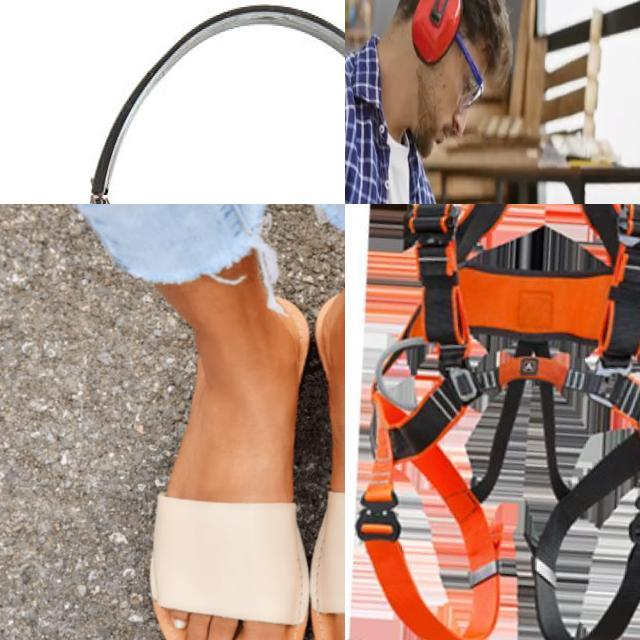Ear-protection: (78, 0, 345, 204), (407, 0, 464, 74)
Harness: (357, 204, 640, 640)
Sandals: (153, 296, 311, 640)
glasses: (448, 28, 486, 116)
person: (345, 0, 512, 204)
